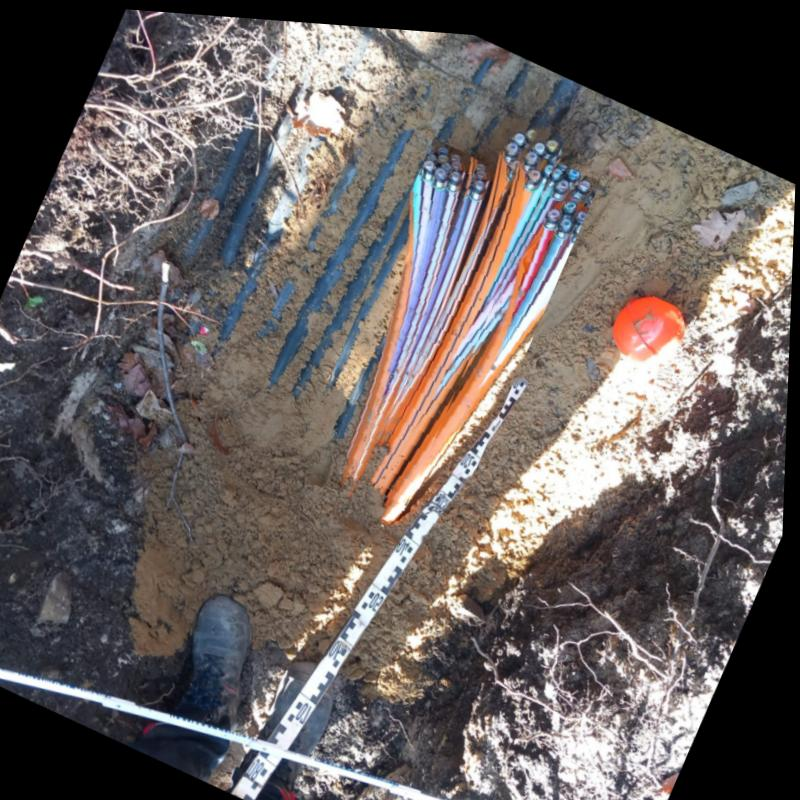Kugelmarker: (614, 285, 693, 356)
Orang-Speednetrohrchen: (381, 170, 599, 522), (367, 124, 565, 488), (341, 138, 473, 476)
